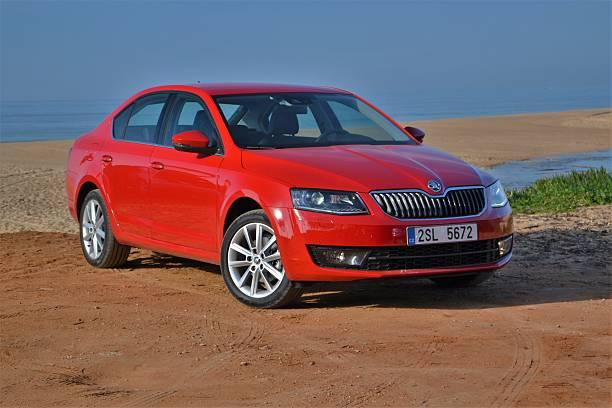skoda: (422, 177, 449, 198)
